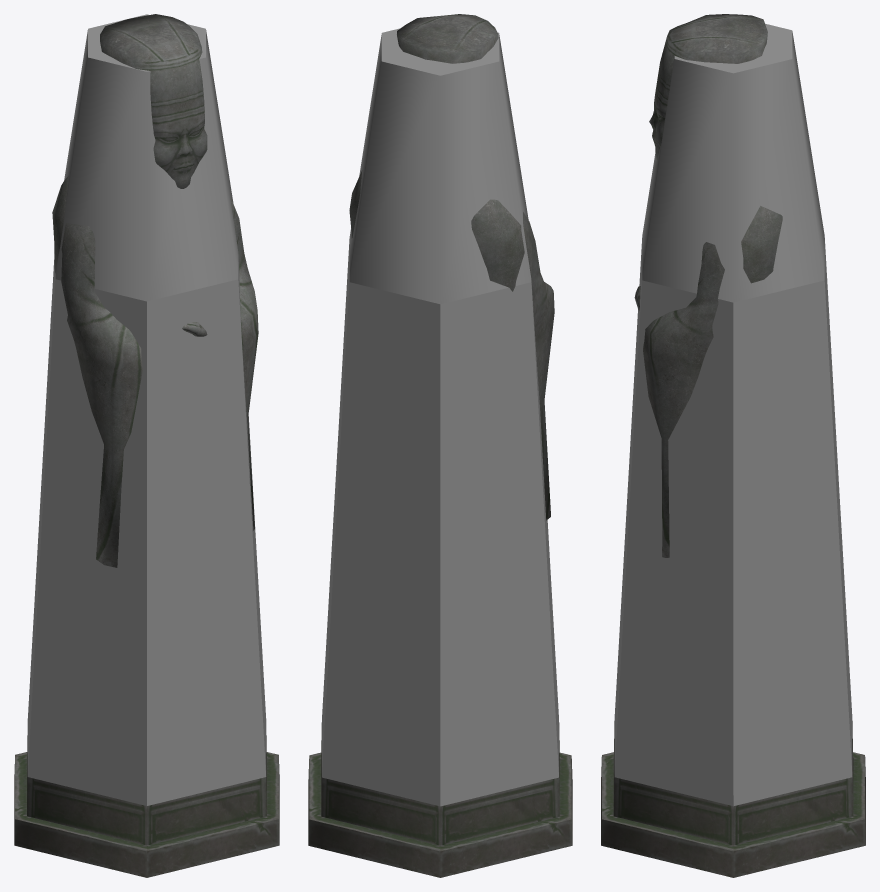
File: Scene_Object_BingYong_1.fbx
The picture shows the model from 3 angles, left to right: view 1: azimuth 30°, elevation 25°; view 2: azimuth 150°, elevation 25°; view 3: azimuth 270°, elevation 25°; orthographic projection.
Visible parts, largest first — view 1: Scene_Object_BingYong_1_Xzm, Scene_Object_BingYong_1; view 2: Scene_Object_BingYong_1_Xzm, Scene_Object_BingYong_1; view 3: Scene_Object_BingYong_1_Xzm, Scene_Object_BingYong_1.
Boxes of the visible parts, box(x1,y1,x2,y2) form: Scene_Object_BingYong_1_Xzm: box(27, 14, 266, 805); Scene_Object_BingYong_1: box(14, 14, 279, 877); Scene_Object_BingYong_1_Xzm: box(322, 28, 558, 806); Scene_Object_BingYong_1: box(308, 14, 572, 877); Scene_Object_BingYong_1_Xzm: box(614, 23, 852, 806); Scene_Object_BingYong_1: box(601, 14, 865, 877).
Bounding box in the file's own units: 233 × 660 × 202.
Materials: 2 (1 with a texture image).
